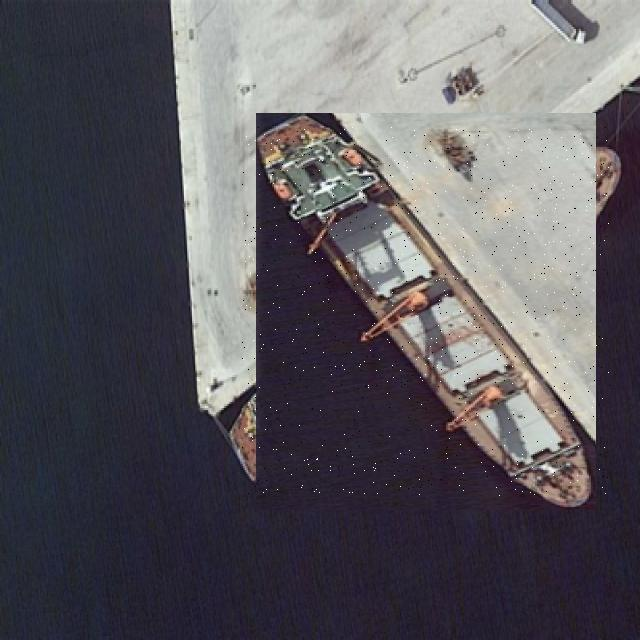boat: (241, 127, 610, 496)
